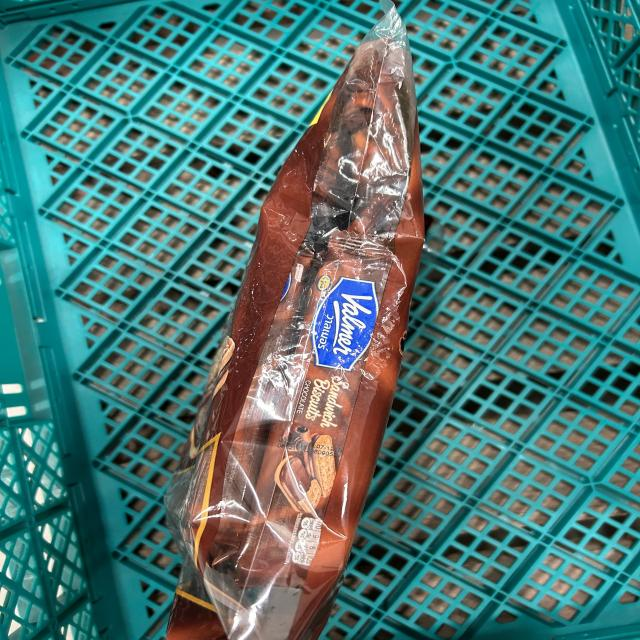object_name: (250, 36, 361, 640)
